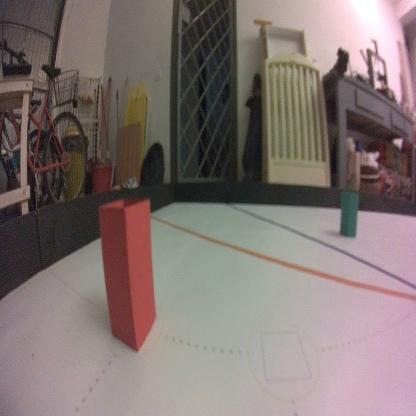green: (338, 187, 359, 236)
red: (96, 192, 160, 356)
